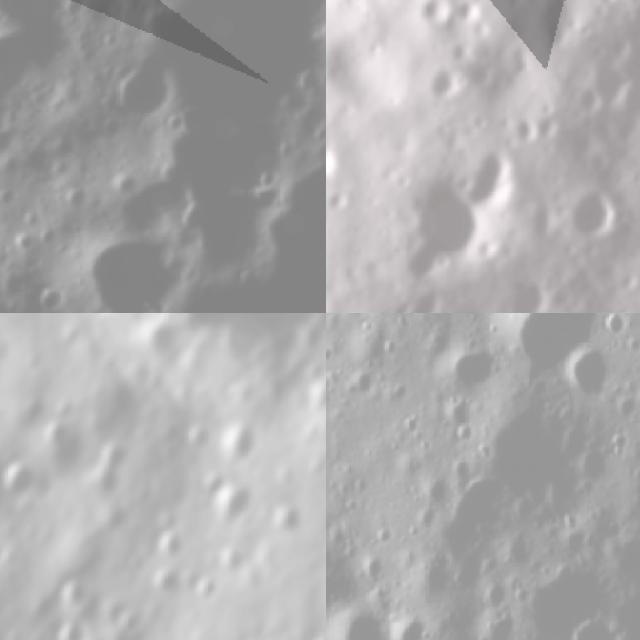crater: (378, 160, 507, 284), (57, 224, 186, 313), (445, 135, 543, 231), (552, 175, 635, 258), (505, 313, 599, 380), (100, 58, 184, 130), (591, 22, 640, 139), (0, 20, 53, 105), (392, 235, 452, 294), (526, 10, 580, 65), (416, 62, 471, 115), (441, 341, 498, 390), (206, 484, 254, 534), (502, 106, 550, 155), (405, 0, 462, 39), (524, 108, 570, 156), (0, 456, 46, 504), (217, 419, 260, 470), (563, 78, 609, 124), (445, 0, 492, 37), (144, 322, 182, 364), (84, 466, 125, 502), (15, 393, 51, 433), (146, 569, 183, 606), (56, 574, 92, 612), (274, 501, 309, 537), (182, 418, 214, 454), (326, 139, 347, 193), (326, 185, 356, 222), (40, 419, 72, 453), (97, 439, 132, 470), (153, 532, 187, 563), (191, 577, 223, 604), (53, 618, 91, 640), (393, 627, 431, 640), (0, 536, 11, 570)
